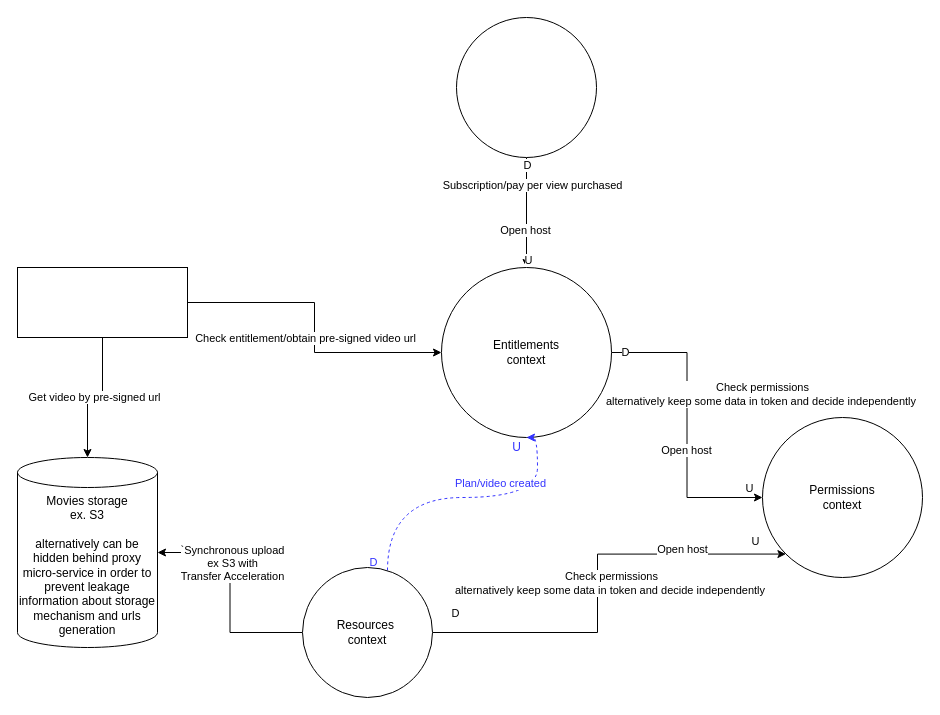
Some shapes in this 940 by 715 pixel diagram are drawn without their labels. The shapes that lost their labels are listed below. From the top down, each one's centre as x and y in pixels, then its label:
At (x=526, y=87): "Payment/purchase context".
At (x=102, y=302): "Front-end ex SPA/API GATEWAY".
